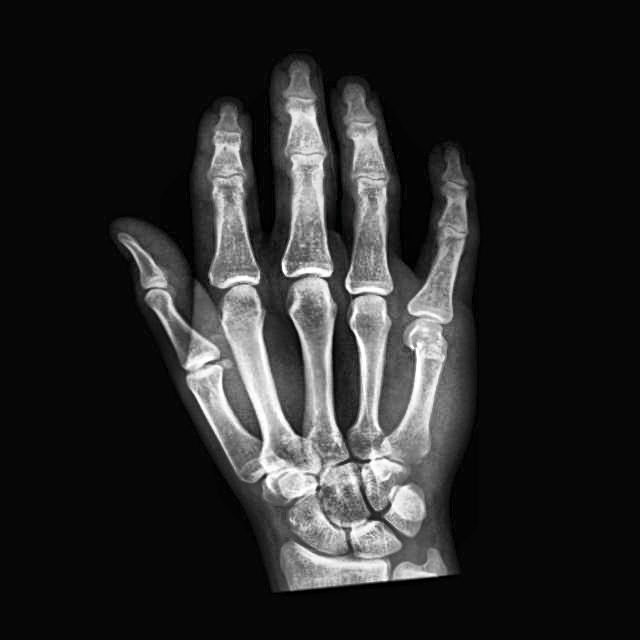Comminuted: (400, 312, 453, 372)
